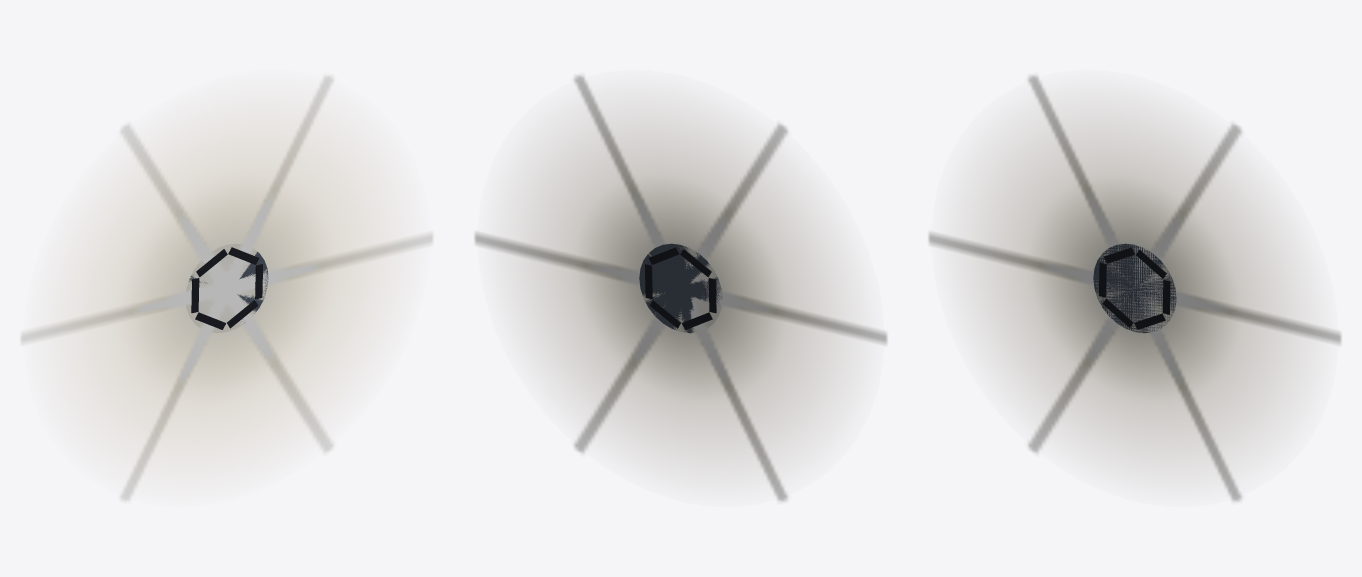
The model's file is bs_lens.glb.
The picture shows the model from 3 angles, left to right: view 1: azimuth 30°, elevation 25°; view 2: azimuth 150°, elevation 25°; view 3: azimuth 330°, elevation 25°; orthographic projection.
Visible parts, largest first — view 1: bs_flare, bs_blades, bs_lensGlow; view 2: bs_flare, bs_lensGlow, bs_blades; view 3: bs_flare, bs_lensGlow, bs_blades.
Boxes of the visible parts, x1,y1,x2,y2 form: bs_flare: [20, 75, 433, 501]; bs_blades: [191, 247, 262, 329]; bs_lensGlow: [189, 252, 268, 322]; bs_flare: [474, 75, 887, 501]; bs_lensGlow: [639, 243, 722, 333]; bs_blades: [645, 247, 716, 329]; bs_flare: [928, 75, 1341, 501]; bs_lensGlow: [1093, 243, 1176, 333]; bs_blades: [1099, 247, 1170, 329].
Bounding box in the file's own units: 1 × 1 × 0.004.
Materials: 3 (1 with a texture image).
